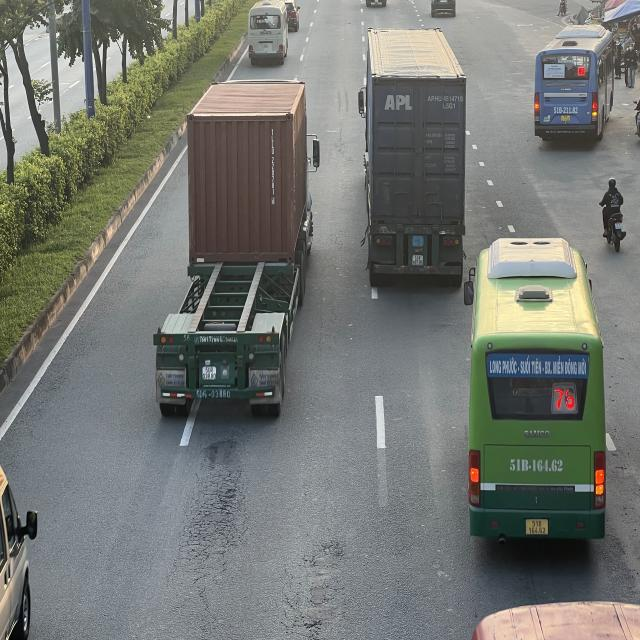coach: (469, 242, 606, 552), (534, 28, 619, 142), (249, 0, 290, 66)
container: (158, 84, 326, 420), (359, 26, 468, 287)
